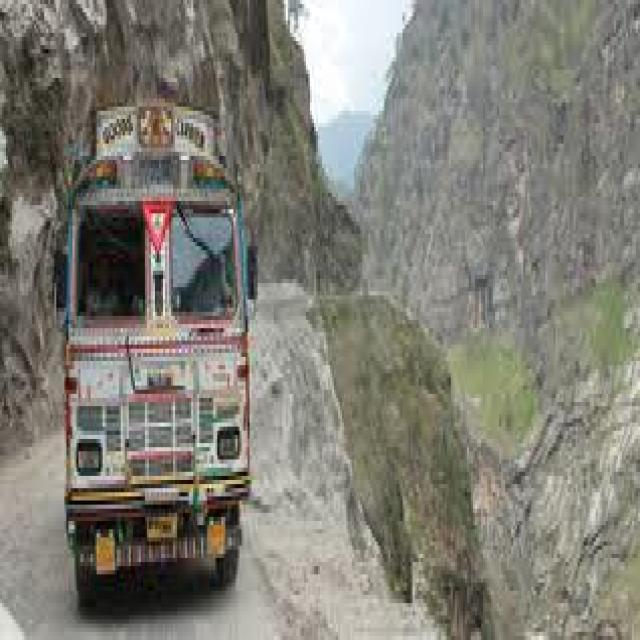truck_front: (51, 84, 260, 616)
